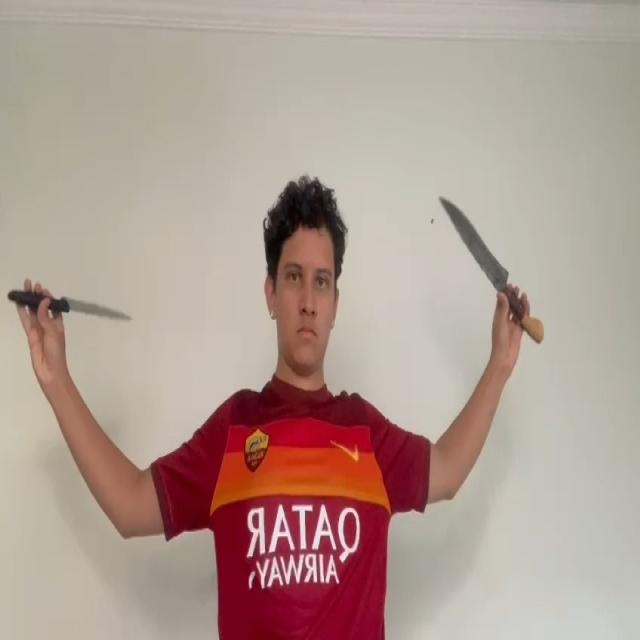knife: (439, 195, 509, 292), (65, 294, 133, 322)
